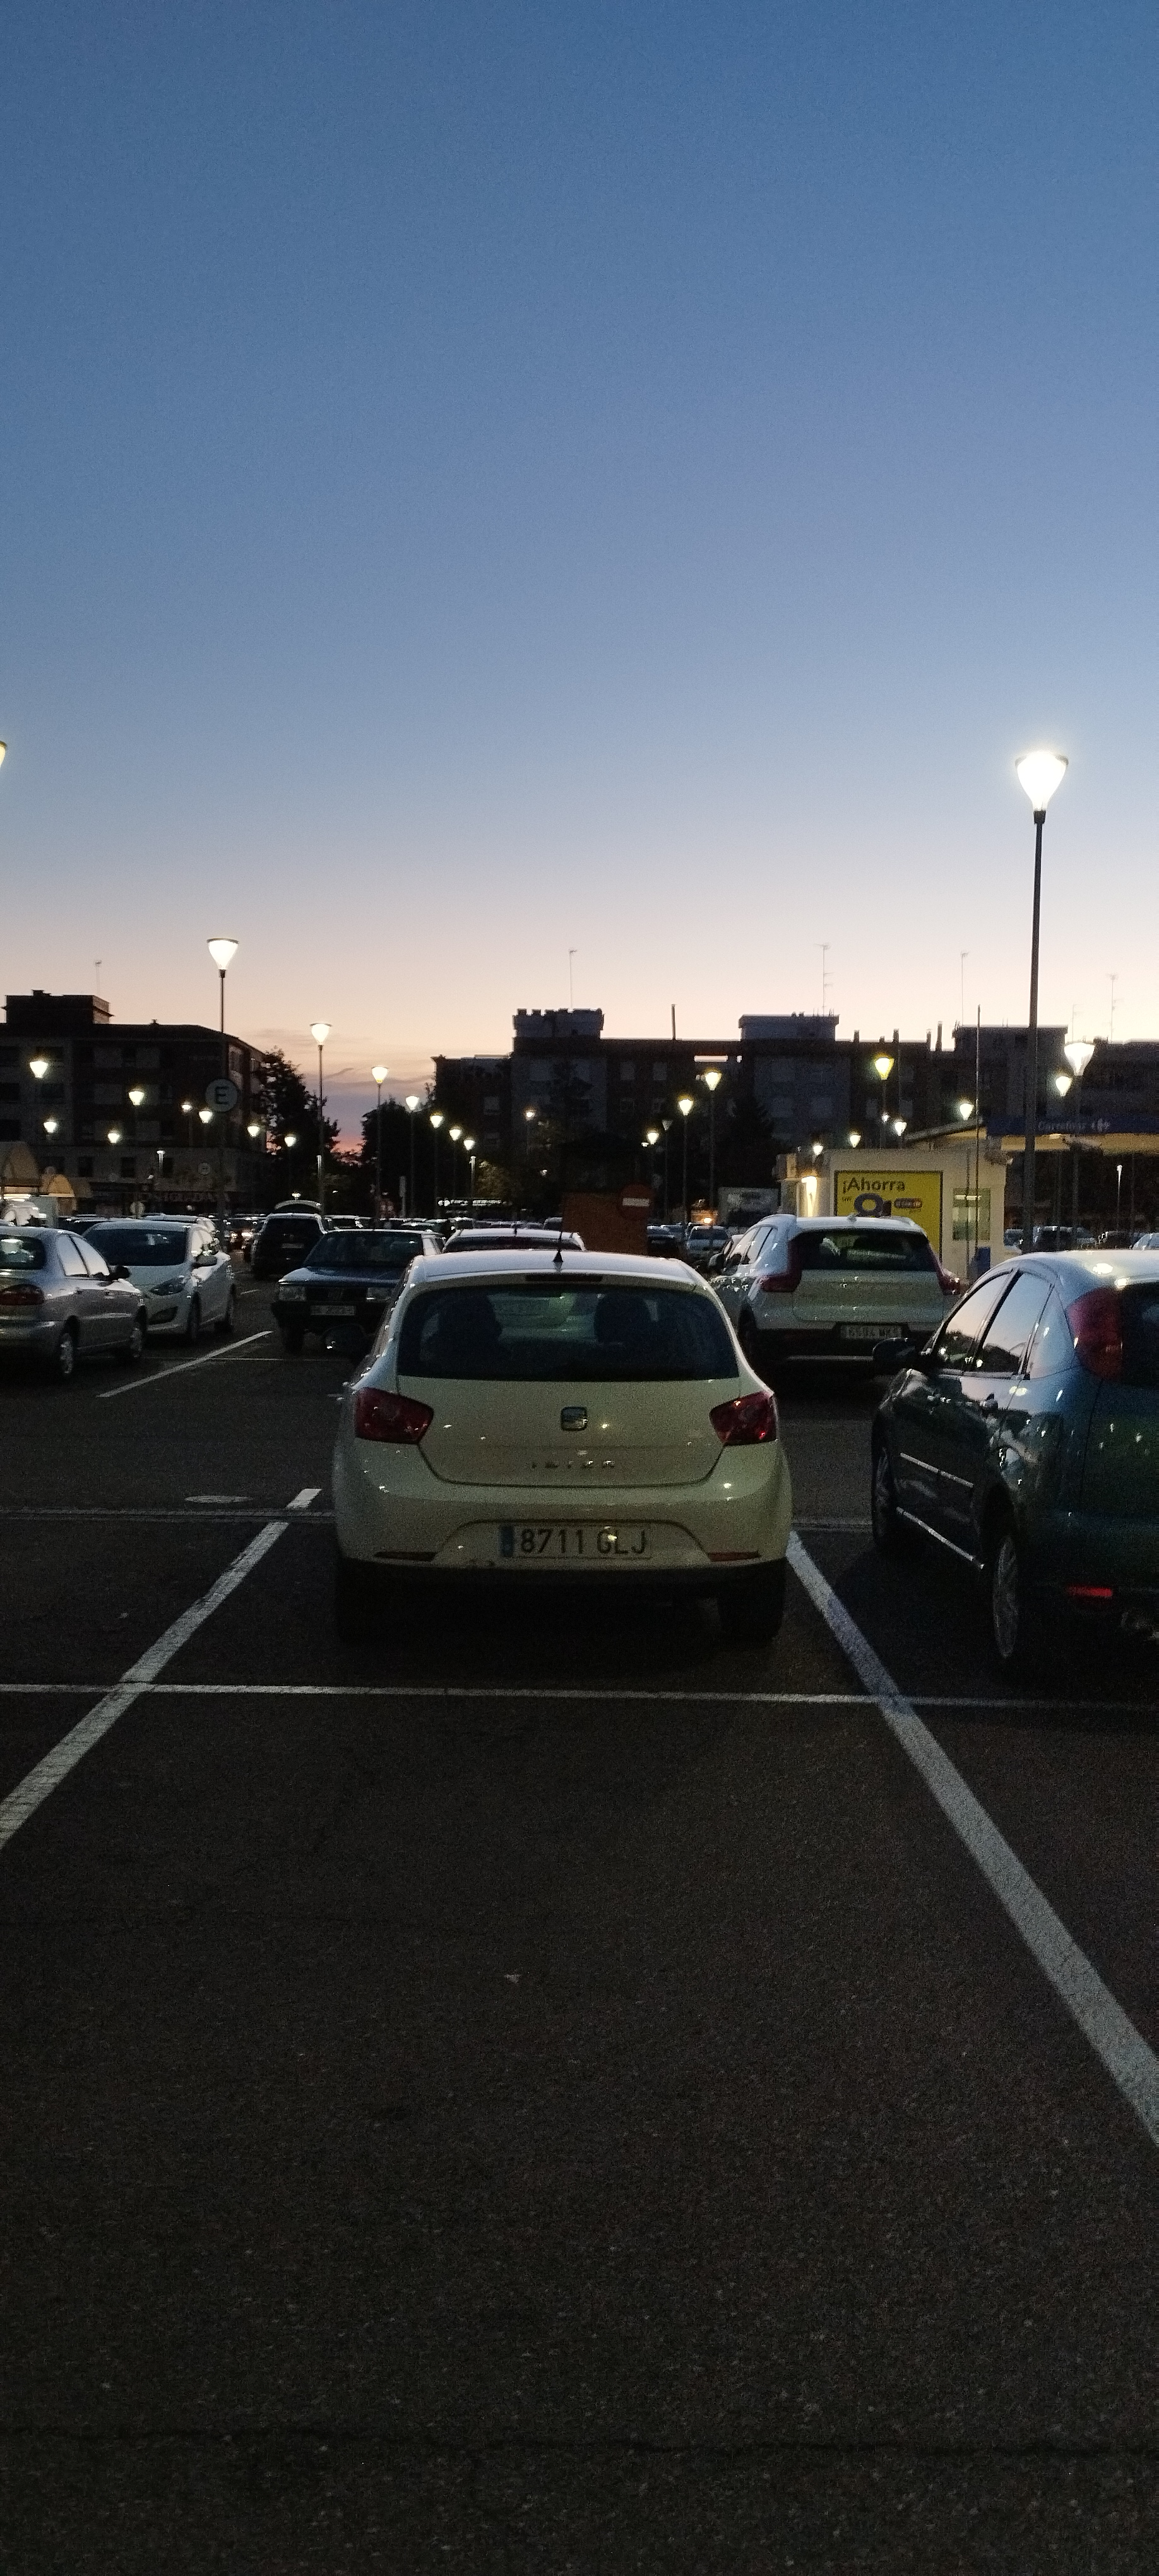Car: (331, 1250, 776, 1645), (694, 1222, 961, 1369)
Plate: (496, 1525, 650, 1560), (836, 1323, 905, 1339)
